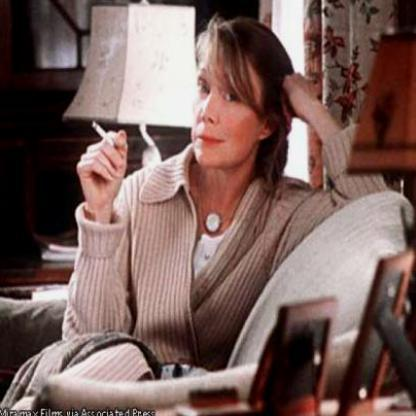cigarette: (92, 119, 116, 151)
person: (56, 21, 320, 374)
